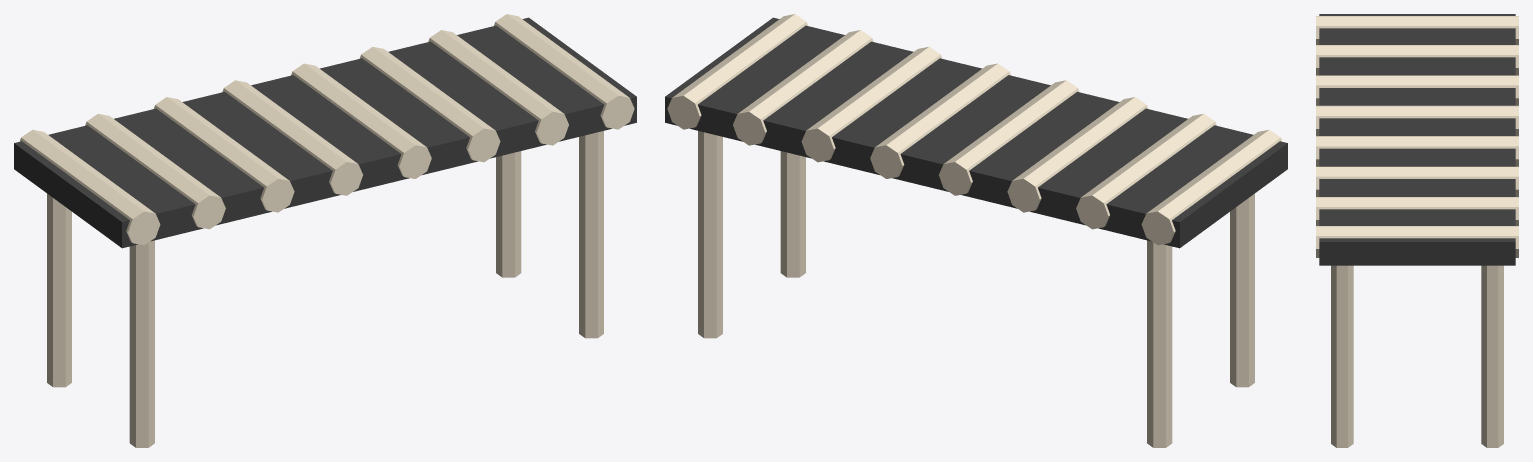
The picture shows the model from 3 angles, left to right: view 1: azimuth 30°, elevation 25°; view 2: azimuth 150°, elevation 25°; view 3: azimuth 270°, elevation 25°; orthographic projection. The views are drawn at different scales.
Parts seen in each view (by area): view 1: Belt, Leg, Leg.002, Leg.001, Roller, Roller.002, Roller.001, Roller.003, Roller.004, Roller.005, Roller.007, Roller.006 (+1 smaller); view 2: Belt, Leg.001, Leg.003, Leg, Roller, Roller.002, Roller.001, Roller.003, Roller.004, Roller.005, Roller.007, Roller.006 (+1 smaller); view 3: Belt, Leg.002, Leg.003, Roller.003, Roller.007, Roller.002, Roller.004, Roller.005, Roller.001, Roller, Roller.006.
Part boxes in pixels (<box>): Belt: <box>14,17,636,248</box>; Leg: <box>129,240,154,447</box>; Leg.002: <box>579,131,603,338</box>; Leg.001: <box>47,193,71,387</box>; Roller: <box>19,129,160,245</box>; Roller.002: <box>154,97,294,212</box>; Roller.001: <box>85,113,225,229</box>; Roller.003: <box>222,80,362,195</box>; Roller.004: <box>291,63,431,178</box>; Roller.005: <box>359,46,500,162</box>; Roller.007: <box>494,14,634,129</box>; Roller.006: <box>428,30,568,145</box>; Belt: <box>665,17,1287,248</box>; Leg.001: <box>1147,240,1172,447</box>; Leg.003: <box>698,131,722,338</box>; Leg: <box>1230,193,1254,387</box>; Roller: <box>1141,129,1282,245</box>; Roller.002: <box>1007,97,1147,212</box>; Roller.001: <box>1076,113,1216,229</box>; Roller.003: <box>939,80,1079,195</box>; Roller.004: <box>870,63,1010,178</box>; Roller.005: <box>801,46,942,162</box>; Roller.007: <box>667,14,807,129</box>; Roller.006: <box>733,30,873,145</box>; Belt: <box>1319,14,1515,265</box>; Leg.002: <box>1331,265,1353,447</box>; Leg.003: <box>1481,265,1503,447</box>; Roller.003: <box>1316,105,1518,135</box>; Roller.007: <box>1316,226,1518,257</box>; Roller.002: <box>1316,75,1518,105</box>; Roller.004: <box>1316,136,1518,166</box>; Roller.005: <box>1316,166,1518,196</box>; Roller.001: <box>1316,45,1518,75</box>; Roller: <box>1316,16,1518,44</box>; Roller.006: <box>1316,197,1518,225</box>.
Bounding box in the file's own units: 1.65 × 0.752 × 0.62.
Materials: 1 (1 with a texture image).
